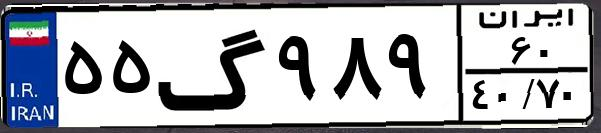0: (560, 70, 590, 125), (537, 27, 568, 80), (495, 70, 520, 125)
4: (470, 70, 495, 125)
5: (57, 26, 110, 100), (110, 28, 156, 98)
6: (508, 27, 537, 80)
7: (535, 70, 560, 125)
8: (330, 28, 385, 110)
9: (270, 28, 330, 110), (385, 28, 445, 110)
گ: (156, 12, 270, 120)
